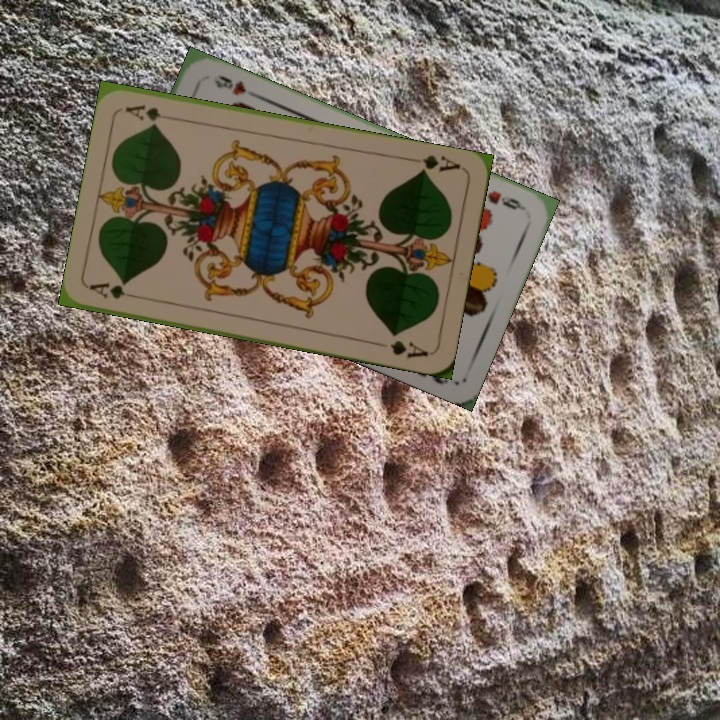GA: (86, 278, 145, 302), (415, 151, 463, 177)
H9: (483, 186, 528, 213)
